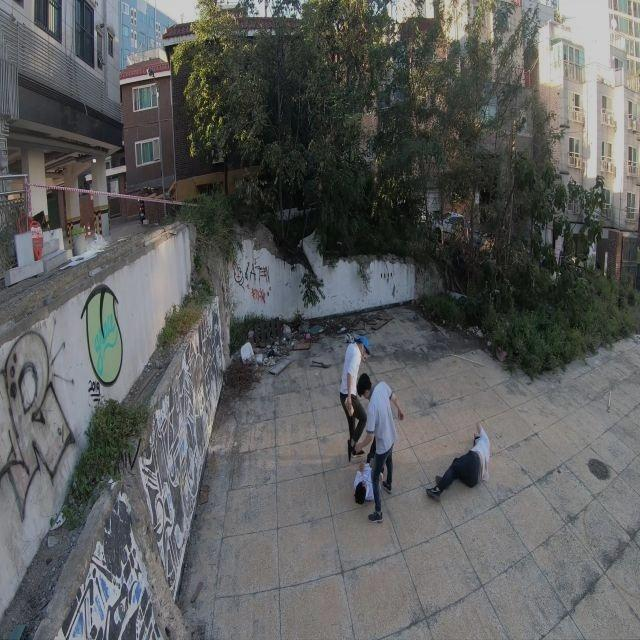fight: (338, 334, 406, 524)
non-fight: (425, 422, 494, 504)
